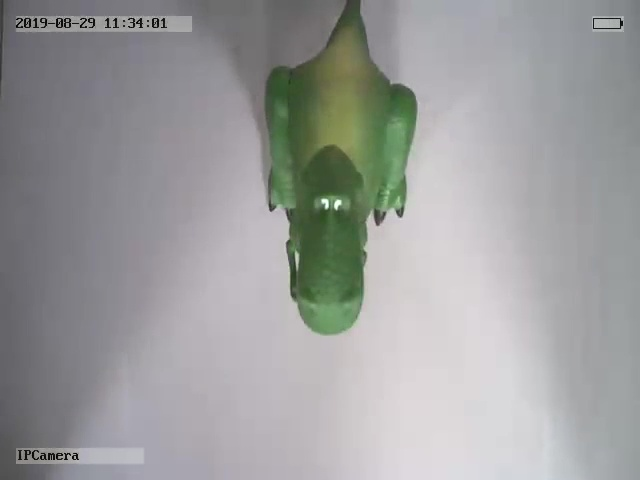rex: (260, 1, 421, 336)
